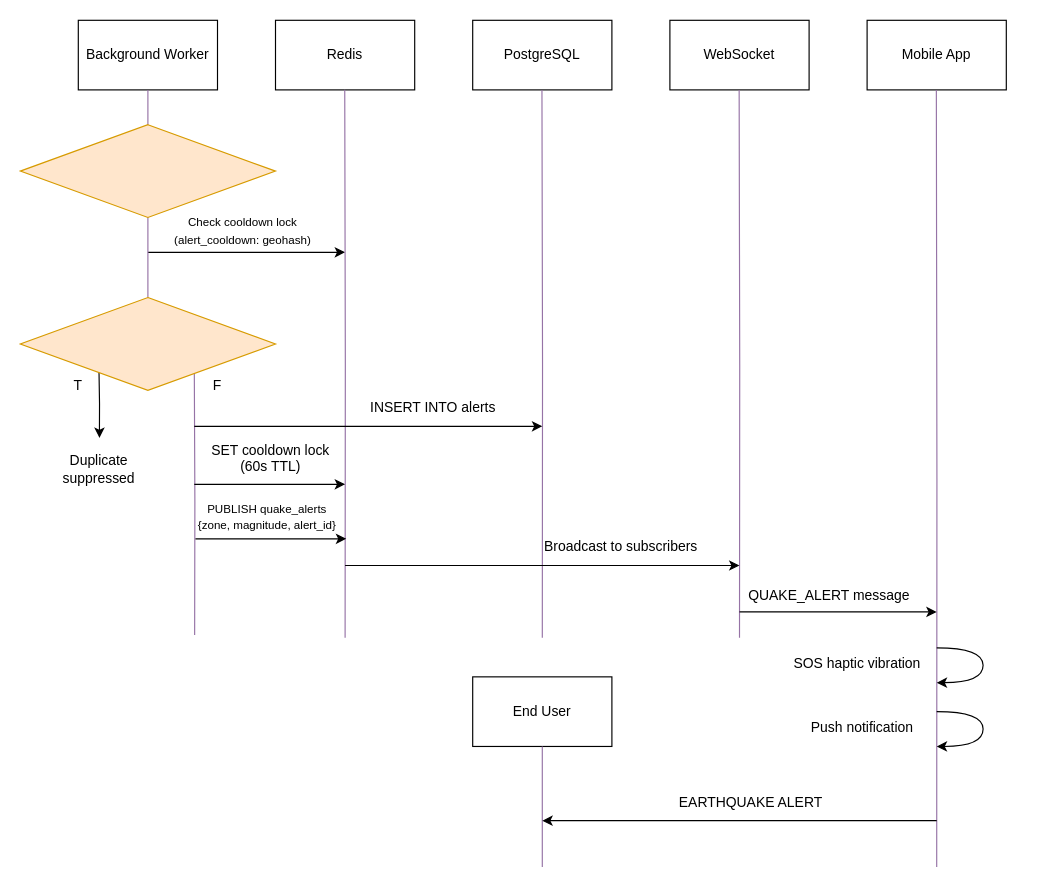
The diagram is 1044 pixels wide and 889 high, and some of its shapes have lost their labels. The shapes that lost their labels are listed below. From the top down, each one's centre as x and y in pixels, then its label:
At (147,170): "M ≥ 4.5 (Alert Threshold)".
At (147,343): "Active Cooldown".
